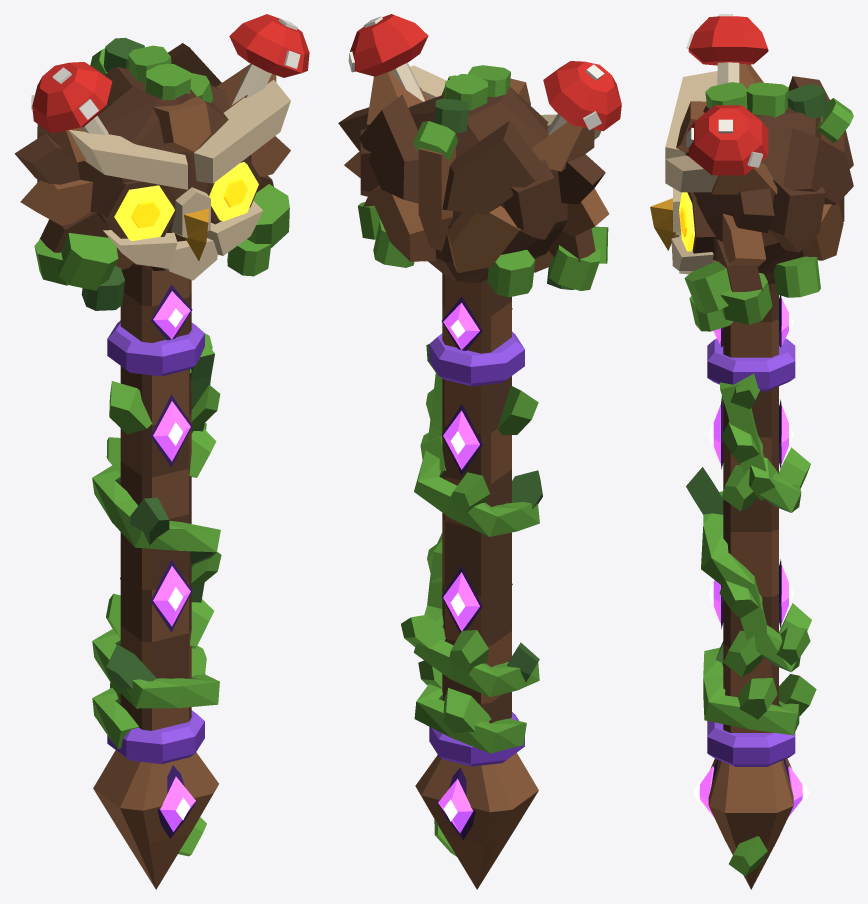
The model's file is hootmoss_staff.glb.
3 renders of one model, left to right at view 1: azimuth 30°, elevation 25°; view 2: azimuth 150°, elevation 25°; view 3: azimuth 270°, elevation 25°, orthographic. The views are drawn at different scales.
Visible parts, largest first — view 1: shaft, vine, foot_spike, head_core, brow_R, brow_L, mushroom_cap_L, band_upper, mushroom_cap_R, band_lower, moss_6, cheek_feather_mid_L (+34 smaller); view 2: shaft, vine, foot_spike, head_core, back_plate_upper_L, back_plate_upper_R, mushroom_cap_L, band_upper, mushroom_cap_R, back_plate_lower_L, back_ridge_plate, back_plate_lower_R (+29 smaller); view 3: shaft, vine, foot_spike, head_core, mushroom_cap_R, back_plate_upper_R, mushroom_cap_L, band_upper, back_plate_side_R, band_lower, moss_10, moss_13 (+33 smaller).
Boxes of the visible parts, left/top/right/bottom form: shaft: left=120, top=264, right=191, bottom=730; vine: left=92, top=341, right=220, bottom=748; foot_spike: left=93, top=750, right=218, bottom=889; head_core: left=77, top=66, right=251, bottom=270; brow_R: left=194, top=80, right=290, bottom=183; brow_L: left=69, top=130, right=187, bottom=189; mushroom_cap_L: left=32, top=62, right=112, bottom=133; band_upper: left=107, top=320, right=204, bottom=376; mushroom_cap_R: left=229, top=14, right=309, bottom=77; band_lower: left=107, top=710, right=204, bottom=764; moss_6: left=57, top=233, right=118, bottom=290; cheek_feather_mid_L: left=20, top=179, right=92, bottom=225; shaft: left=442, top=273, right=511, bottom=723; vine: left=413, top=373, right=539, bottom=753; foot_spike: left=415, top=753, right=538, bottom=889; head_core: left=408, top=86, right=567, bottom=282; back_plate_upper_L: left=442, top=121, right=545, bottom=214; back_plate_upper_R: left=359, top=94, right=418, bottom=203; mushroom_cap_L: left=543, top=61, right=621, bottom=131; band_upper: left=429, top=331, right=524, bottom=386; mushroom_cap_R: left=350, top=14, right=428, bottom=76; back_plate_lower_L: left=446, top=205, right=520, bottom=272; back_ridge_plate: left=418, top=144, right=455, bottom=250; back_plate_lower_R: left=369, top=185, right=435, bottom=261; shaft: left=723, top=283, right=778, bottom=732; vine: left=701, top=382, right=801, bottom=735; foot_spike: left=708, top=758, right=793, bottom=889; head_core: left=685, top=105, right=821, bottom=284; mushroom_cap_R: left=688, top=105, right=768, bottom=175; back_plate_upper_R: left=782, top=128, right=853, bottom=205; mushroom_cap_L: left=688, top=16, right=768, bottom=65; band_upper: left=707, top=338, right=795, bottom=391; back_plate_side_R: left=769, top=178, right=825, bottom=252; band_lower: left=707, top=721, right=795, bottom=766; moss_10: left=684, top=261, right=730, bottom=313; moss_13: left=774, top=256, right=820, bottom=297.
Bounding box in the file's own units: 0.4525 × 1.4 × 0.3124.
